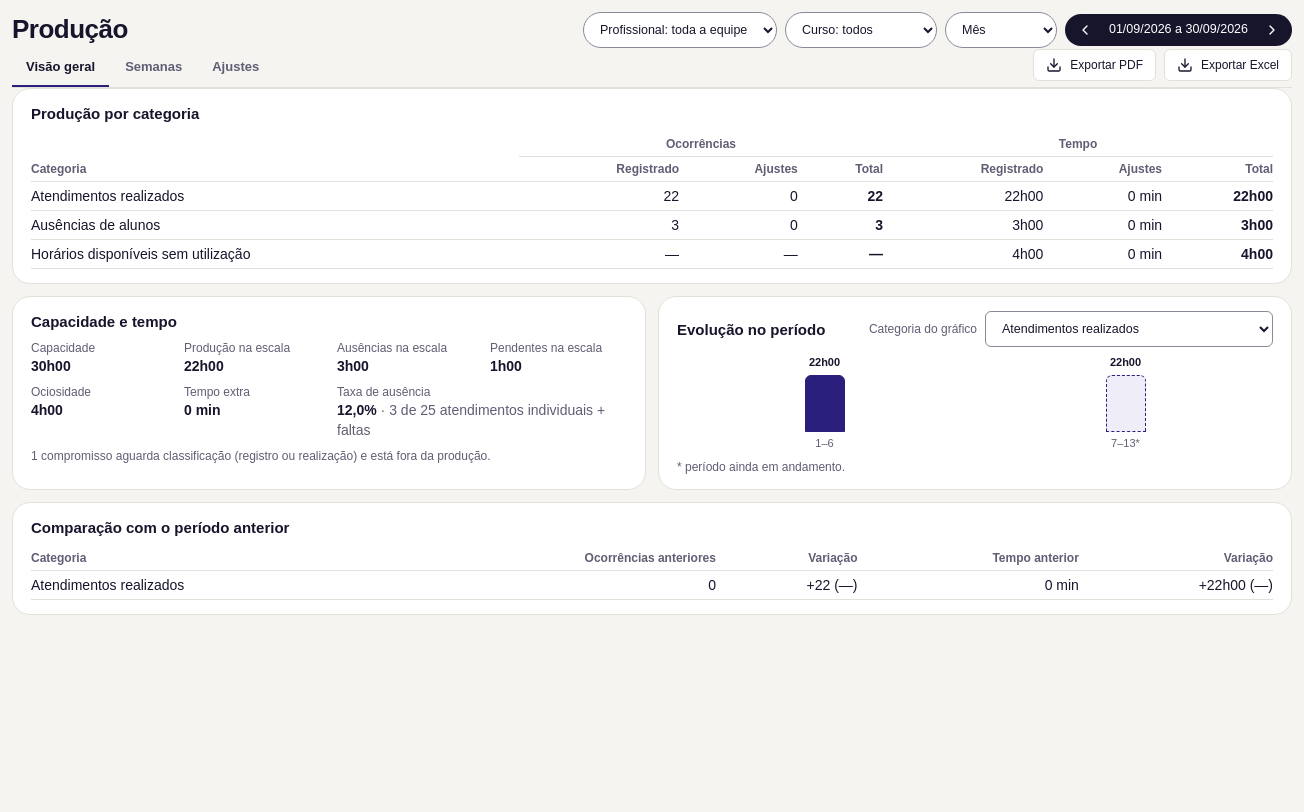
Test: ProducaoPage › Erro_na_exportacao_mostra_mensagem_e_nao_baixa
Click the button "Exportar Excel". click: (1228, 65)
box: [1164, 49, 1292, 81]
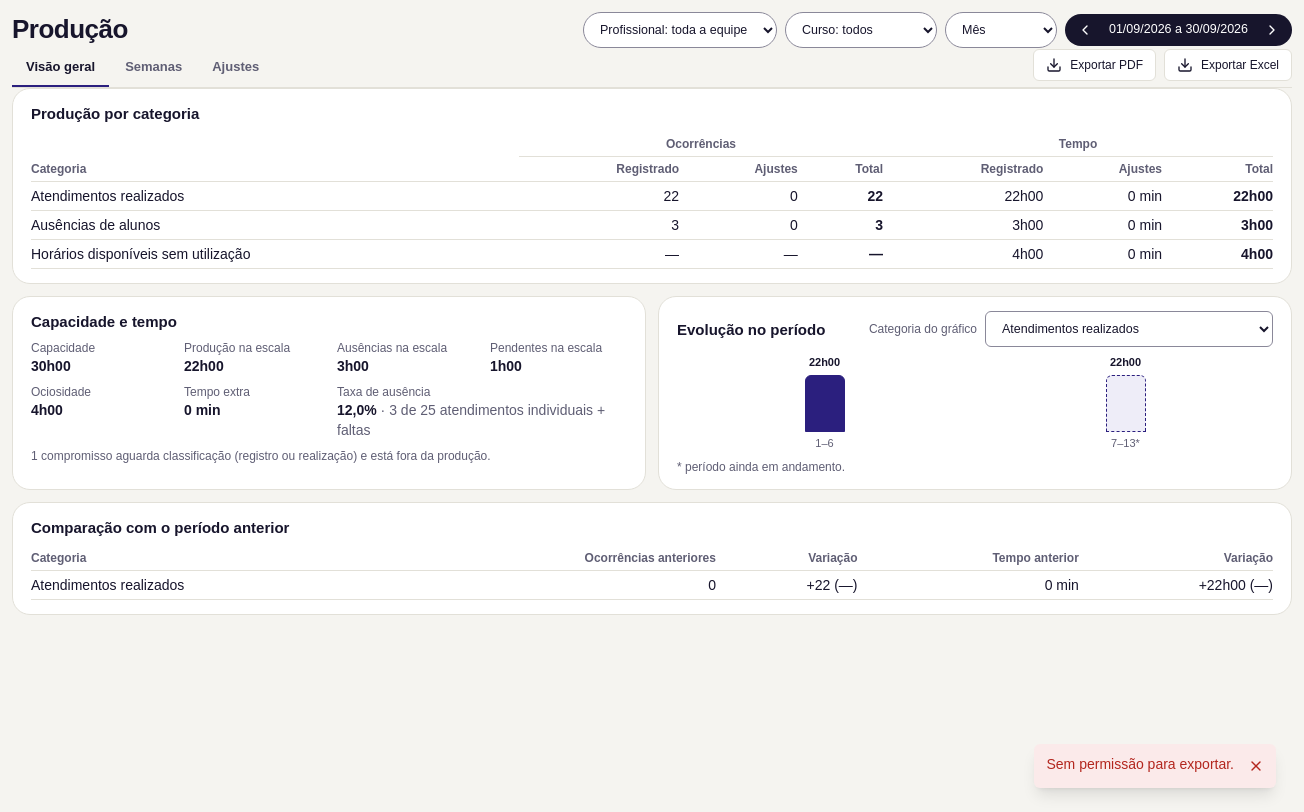
Expected: the text "Sem permissão para exportar." is shown, [1046, 752, 1234, 776]
